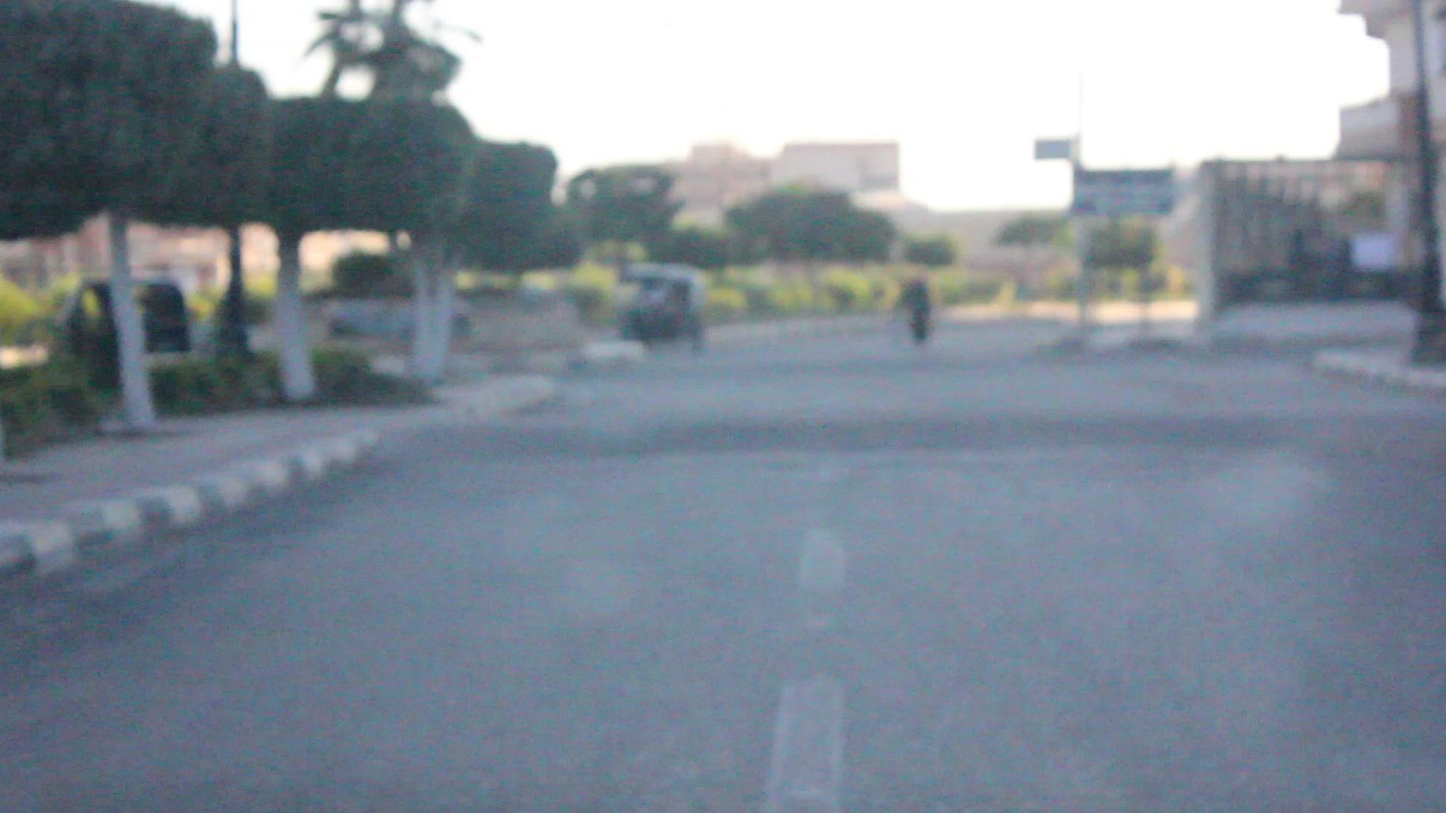Bump: (448, 405, 1444, 459)
